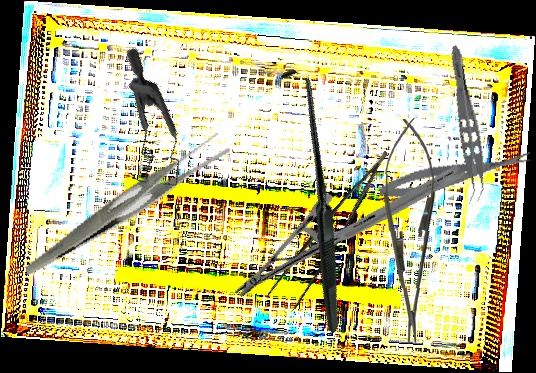Dressing Forceps: (4, 130, 248, 276)
Hook Surgical: (178, 65, 444, 334)
Micro Scissor: (376, 146, 535, 204)
Needle Holder: (233, 100, 466, 363), (380, 118, 439, 344)
Speculum: (66, 45, 225, 205)
Tissue Forceps: (260, 150, 412, 318), (437, 43, 493, 205)
